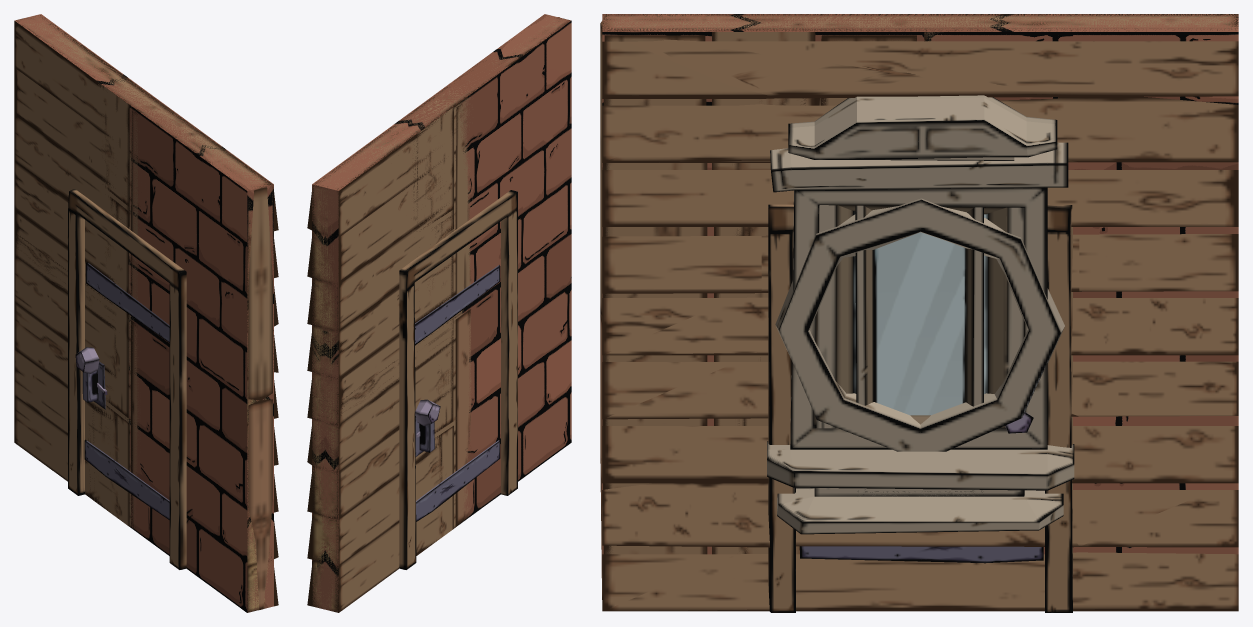
The model's file is Modularne elementy zachód.fbx.
3 renders of one model, left to right at view 1: azimuth 30°, elevation 25°; view 2: azimuth 150°, elevation 25°; view 3: azimuth 270°, elevation 25°, orthographic. The views are drawn at different scales.
Visible parts, largest first — view 1: ŚcianaBazowa1.053, ŚcianaDechySaloon1.015, ŚcianaDechyPionowe.012, Framuga1.011, ŚcianaDechySaloon1 (Drzwi).002, Drzwi1.005, ŚcianaDechySaloon1.016, ŚcianaDechyPionowe.013, Drzwi3.004; view 2: ŚcianaBazowa1.053, ŚcianaDechySaloon1.015, ŚcianaDechyPionowe.012, Framuga1.011, ŚcianaDechySaloon1 (Drzwi).002, Drzwi1.005, ŚcianaDechySaloon1.016, ŚcianaDechyPionowe.013, Drzwi3.004; view 3: ŚcianaDechySaloon1 (Drzwi).002, ŚcianaDechySaloon1.015, Okno2.004, Okno1.004, ŚcianaBazowa1.053, Cylinder.012, Okno3.006, Framuga1.011, ŚcianaDechyPionowe.012, ŚcianaDechyPionowe.013, Drzwi1.005.
Boxes of the visible parts, box(x1,y1,x2,y2) form: ŚcianaBazowa1.053: box(14, 14, 273, 612); ŚcianaDechySaloon1.015: box(14, 18, 278, 609); ŚcianaDechyPionowe.012: box(16, 82, 272, 609); Framuga1.011: box(68, 189, 186, 569); ŚcianaDechySaloon1 (Drzwi).002: box(16, 15, 278, 612); Drzwi1.005: box(82, 262, 169, 519); ŚcianaDechySaloon1.016: box(14, 232, 254, 419); ŚcianaDechyPionowe.013: box(98, 84, 259, 401); Drzwi3.004: box(75, 347, 99, 373); ŚcianaBazowa1.053: box(312, 14, 571, 611); ŚcianaDechySaloon1.015: box(307, 16, 569, 612); ŚcianaDechyPionowe.012: box(361, 17, 559, 596); Framuga1.011: box(399, 190, 517, 569); ŚcianaDechySaloon1 (Drzwi).002: box(307, 18, 571, 612); Drzwi1.005: box(415, 265, 500, 521); ŚcianaDechySaloon1.016: box(309, 314, 460, 423); ŚcianaDechyPionowe.013: box(414, 105, 460, 237); Drzwi3.004: box(415, 399, 440, 425); ŚcianaDechySaloon1 (Drzwi).002: box(602, 14, 1238, 611); ŚcianaDechySaloon1.015: box(602, 14, 1238, 611); Okno2.004: box(777, 95, 1063, 534); Okno1.004: box(767, 142, 1074, 490); ŚcianaBazowa1.053: box(602, 14, 1238, 554); Cylinder.012: box(775, 198, 1064, 451); Okno3.006: box(855, 157, 1014, 495); Framuga1.011: box(768, 204, 1072, 612); ŚcianaDechyPionowe.012: box(600, 21, 937, 599); ŚcianaDechyPionowe.013: box(604, 32, 935, 554); Drzwi1.005: box(799, 546, 1043, 563).
Bounding box in the file's own units: 63.77 × 300 × 301.
4 materials, 4 textured.
